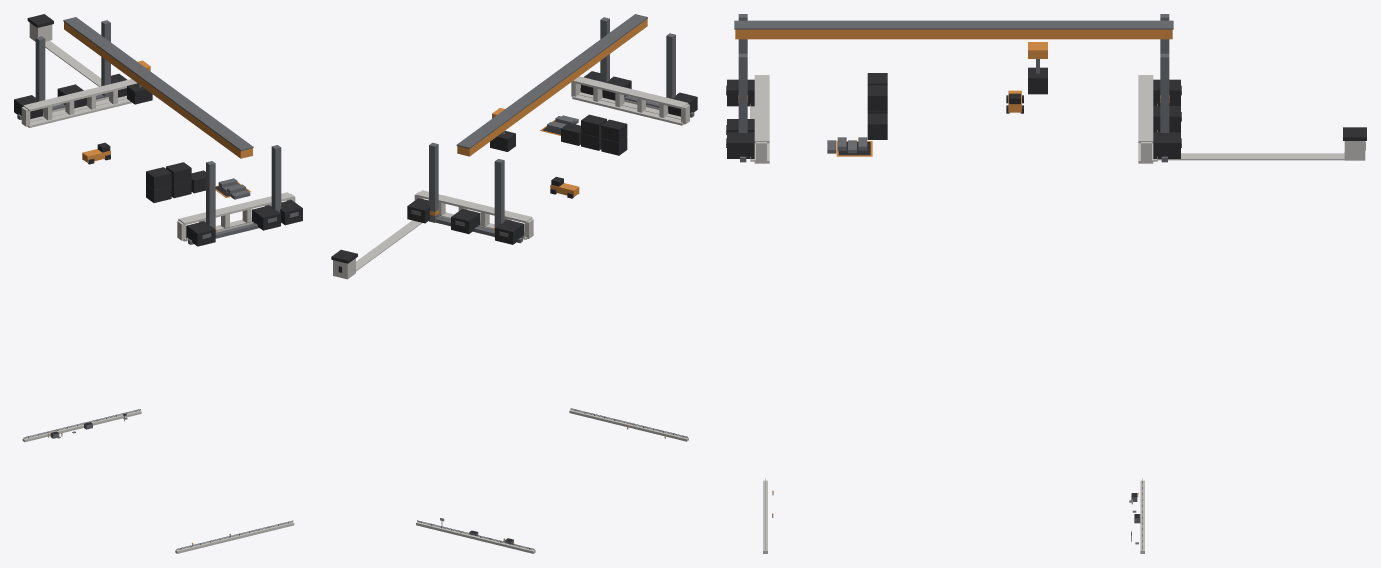
The model's file is SM_Mega_Crane.fbx.
3 views of the same model, side by side, from view 1: azimuth 30°, elevation 25°; view 2: azimuth 150°, elevation 25°; view 3: azimuth 270°, elevation 25° (orthographic). The views are drawn at different scales.
Visible parts, largest first — view 1: SM_Mega_Crane; view 2: SM_Mega_Crane; view 3: SM_Mega_Crane.
Part boxes in pixels (bbox=[...]): SM_Mega_Crane: bbox=[14, 14, 302, 553]; SM_Mega_Crane: bbox=[331, 14, 697, 553]; SM_Mega_Crane: bbox=[726, 14, 1366, 553].
Bounding box in the file's own units: 4200 × 13710 × 16110.
